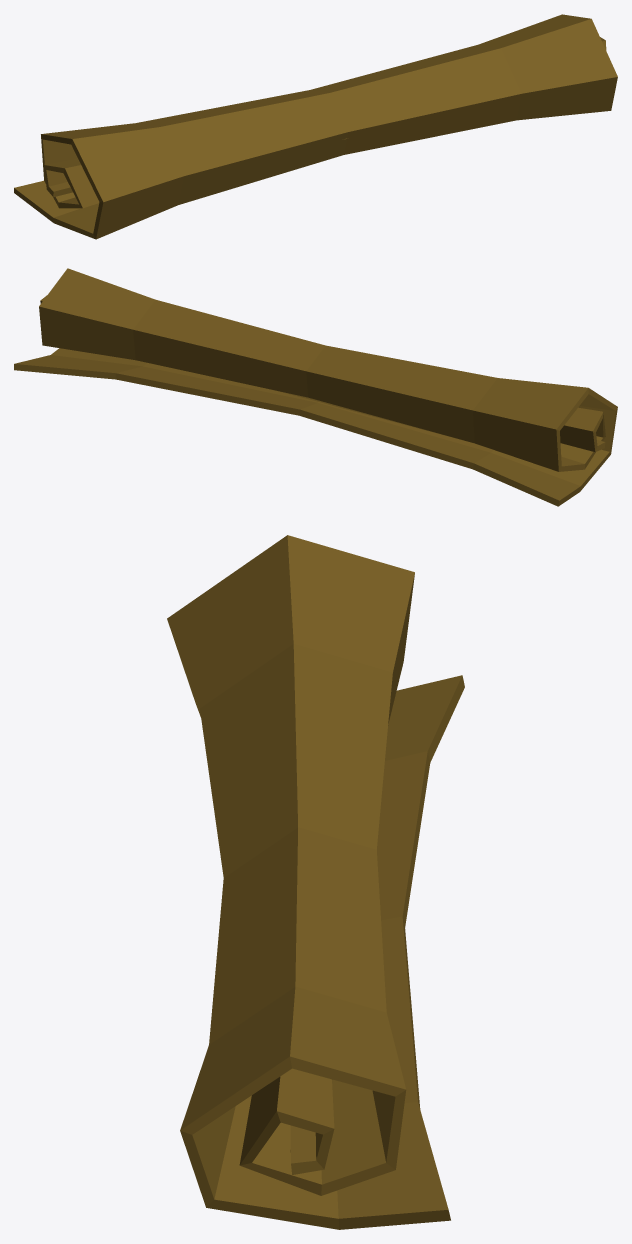
File: scroll.obj
The picture shows the model from 3 angles, top to bottom: view 1: azimuth 30°, elevation 25°; view 2: azimuth 150°, elevation 25°; view 3: azimuth 270°, elevation 25°; orthographic projection. The views are drawn at different scales.
Parts seen in each view (by area): view 1: Scroll_Small_Plane.030; view 2: Scroll_Small_Plane.030; view 3: Scroll_Small_Plane.030.
Boxes of the visible parts, <box> form: Scroll_Small_Plane.030: <box>14,14,617,239</box>; Scroll_Small_Plane.030: <box>14,268,617,506</box>; Scroll_Small_Plane.030: <box>167,535,464,1229</box>.
Size of the model in its own units: 0.4955 by 0.0792 by 0.115.
